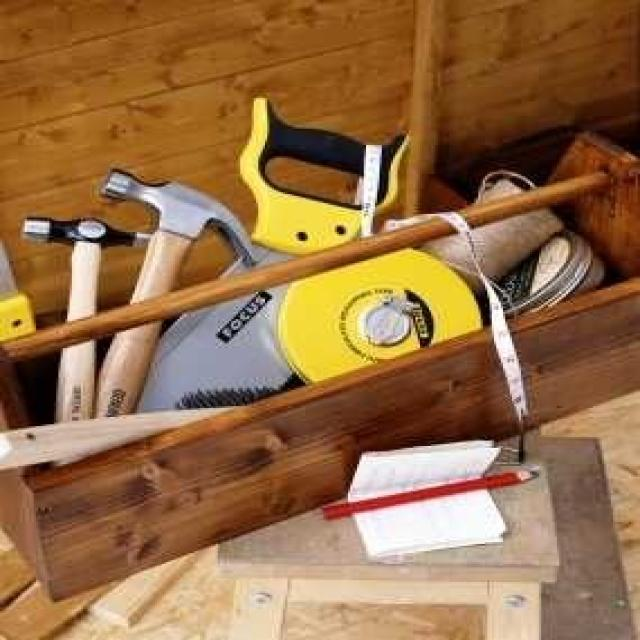hammer: (103, 172, 254, 425), (24, 217, 155, 424)
